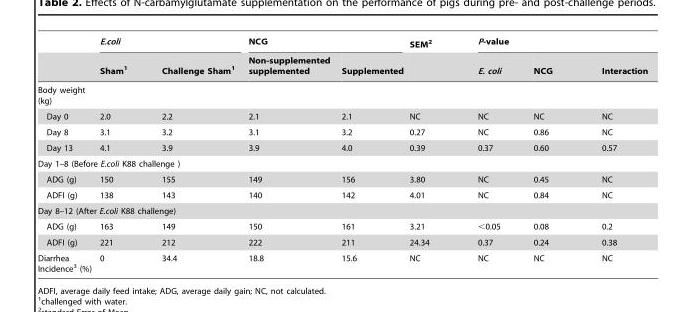table: (37, 36, 647, 272)
table column: (143, 36, 240, 272), (240, 36, 335, 272), (576, 36, 647, 272), (335, 36, 405, 272), (453, 36, 517, 272), (517, 36, 576, 272), (37, 36, 94, 272), (94, 36, 143, 272), (405, 36, 453, 272)
table column header: (37, 36, 647, 80)
table projected row header: (37, 80, 647, 108), (37, 155, 647, 171), (37, 202, 647, 218)
table row: (37, 52, 647, 80), (37, 80, 647, 108), (37, 250, 647, 272), (37, 36, 647, 52), (37, 108, 647, 124), (37, 139, 647, 155), (37, 155, 647, 171), (37, 171, 647, 187), (37, 202, 647, 218), (37, 218, 647, 234), (37, 234, 647, 250), (37, 124, 647, 139), (37, 187, 647, 202)
table spanning cell: (453, 36, 647, 52), (240, 36, 405, 52), (94, 36, 240, 52), (405, 36, 453, 80)
